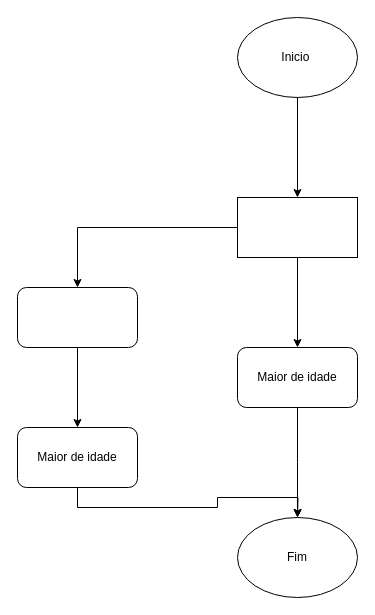
Image size: 375x615. Some labels were removed from this diagram. Each missing label, with the centre of its shape:
"Menor de idade": point (77, 317)
Idade 18: point (297, 227)
